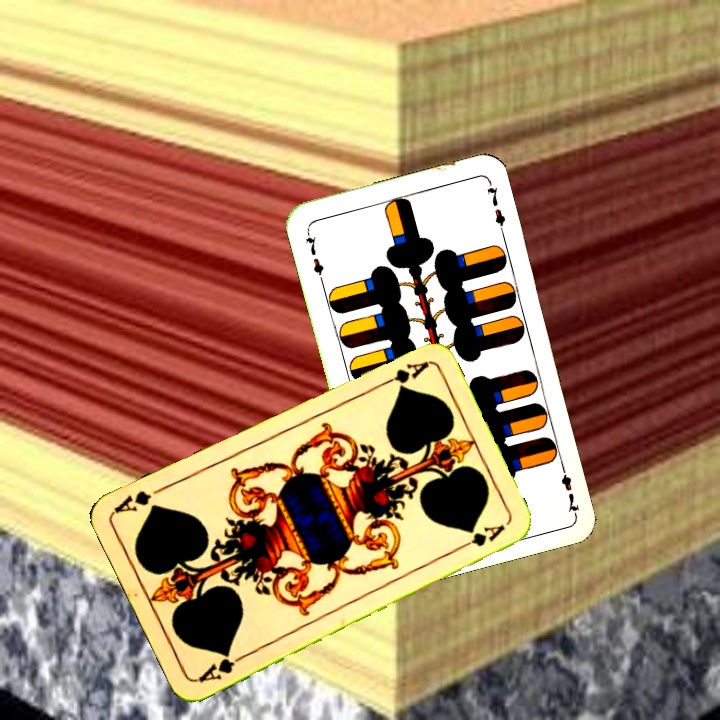E7: (556, 458, 582, 517), (302, 225, 326, 284)
GA: (194, 647, 249, 686), (374, 357, 431, 391)
